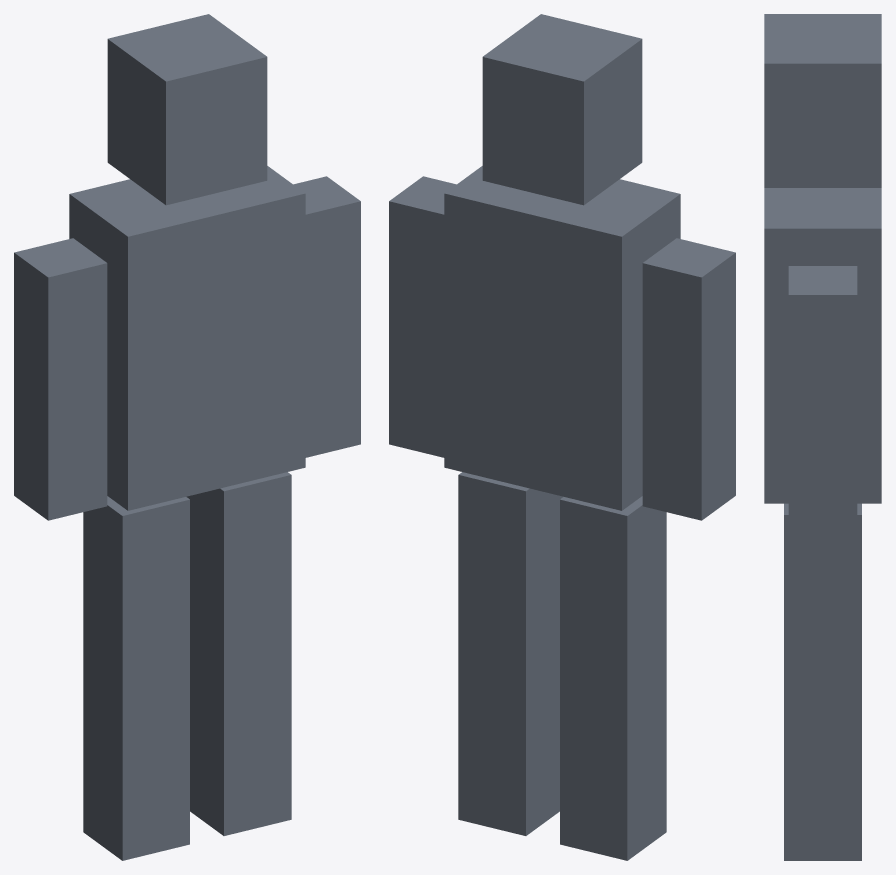
Rendered from resident_rig.glb.
The picture shows the model from 3 angles, left to right: view 1: azimuth 30°, elevation 25°; view 2: azimuth 150°, elevation 25°; view 3: azimuth 270°, elevation 25°; orthographic projection.
Visible parts, largest first — view 1: ResidentHumanoid; view 2: ResidentHumanoid; view 3: ResidentHumanoid.
Boxes of the visible parts, box(x1,y1,x2,y2) form: ResidentHumanoid: box(14, 14, 360, 860); ResidentHumanoid: box(389, 14, 735, 860); ResidentHumanoid: box(764, 14, 881, 860).
Bounding box in the file's own units: 0.74 × 1.76 × 0.24.
